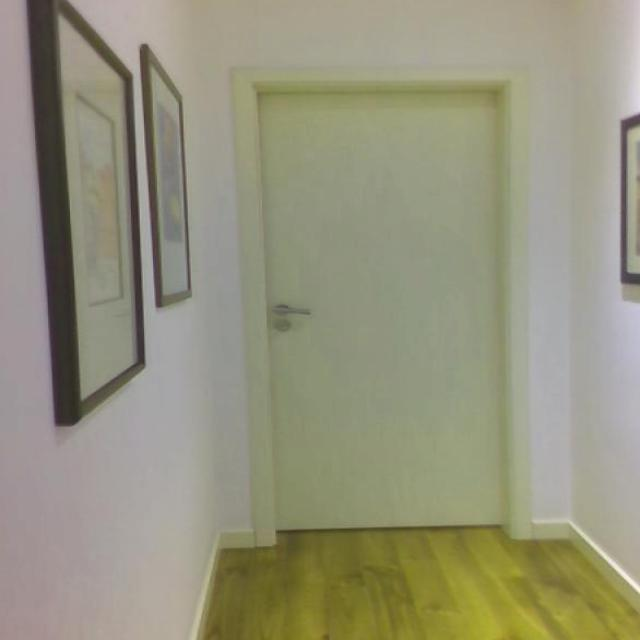door: (255, 81, 507, 532)
